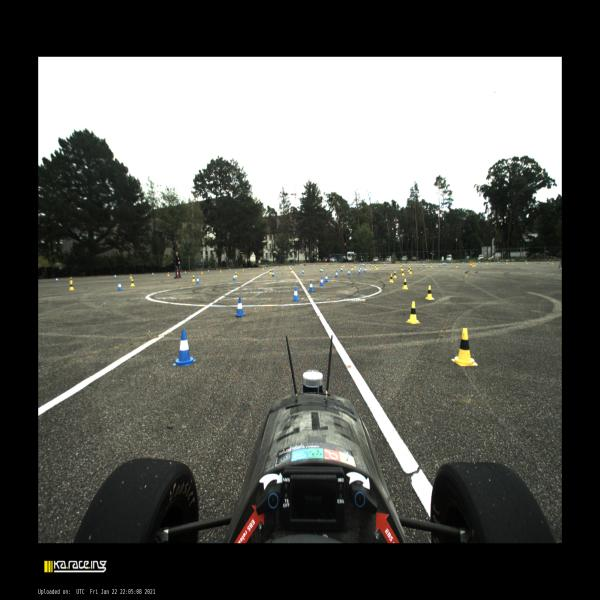blue_cone: (172, 329, 196, 366), (235, 297, 245, 318), (292, 287, 300, 301), (308, 280, 314, 292), (319, 276, 324, 286), (324, 274, 329, 282), (117, 282, 122, 290), (195, 276, 200, 284), (335, 270, 338, 278), (233, 273, 236, 280), (55, 277, 59, 282), (347, 269, 350, 275), (358, 268, 361, 274), (340, 266, 343, 272), (114, 274, 117, 279), (302, 268, 304, 274), (360, 266, 362, 272), (364, 267, 366, 272), (272, 271, 274, 276), (320, 267, 322, 272), (547, 260, 549, 264), (229, 268, 231, 272), (498, 261, 500, 264), (439, 263, 441, 266), (423, 263, 425, 266), (300, 264, 302, 267), (327, 263, 329, 266), (360, 263, 362, 266), (444, 262, 446, 265), (451, 262, 453, 264), (443, 262, 444, 266), (152, 272, 153, 276), (207, 270, 209, 272), (185, 270, 186, 274), (314, 264, 316, 266), (402, 264, 404, 266), (525, 260, 526, 264), (479, 261, 480, 264), (463, 261, 464, 264), (384, 263, 385, 266), (249, 267, 250, 270), (265, 266, 266, 269), (290, 265, 291, 268), (337, 263, 338, 266), (347, 263, 348, 266), (357, 263, 358, 266), (362, 263, 363, 266), (364, 263, 365, 266), (363, 263, 364, 266), (278, 266, 279, 268), (370, 264, 371, 266)
yellow_cone: (451, 328, 478, 366), (406, 301, 420, 324), (425, 285, 434, 300), (402, 278, 408, 290), (69, 281, 74, 290), (130, 279, 135, 287), (389, 274, 393, 282), (401, 268, 405, 276), (192, 274, 196, 282), (69, 275, 73, 283), (393, 271, 397, 278), (409, 268, 412, 274), (407, 266, 410, 272), (269, 269, 272, 274), (290, 268, 293, 273), (400, 266, 403, 270), (430, 263, 432, 268), (456, 263, 458, 268), (130, 274, 132, 279), (236, 272, 238, 277), (351, 265, 353, 270), (486, 260, 488, 264), (472, 262, 474, 266), (201, 270, 203, 274), (376, 265, 378, 269), (321, 267, 323, 271), (262, 266, 264, 270), (552, 261, 554, 264), (506, 261, 508, 264), (292, 265, 294, 268), (313, 264, 315, 267), (400, 263, 402, 266), (526, 261, 528, 264), (168, 272, 169, 276), (302, 265, 304, 267), (343, 264, 345, 266), (220, 269, 221, 272), (243, 268, 244, 271), (355, 264, 356, 267), (335, 263, 336, 266), (341, 264, 342, 267), (375, 264, 376, 267), (470, 262, 471, 265), (475, 263, 476, 266), (280, 266, 281, 268), (326, 264, 327, 266)
